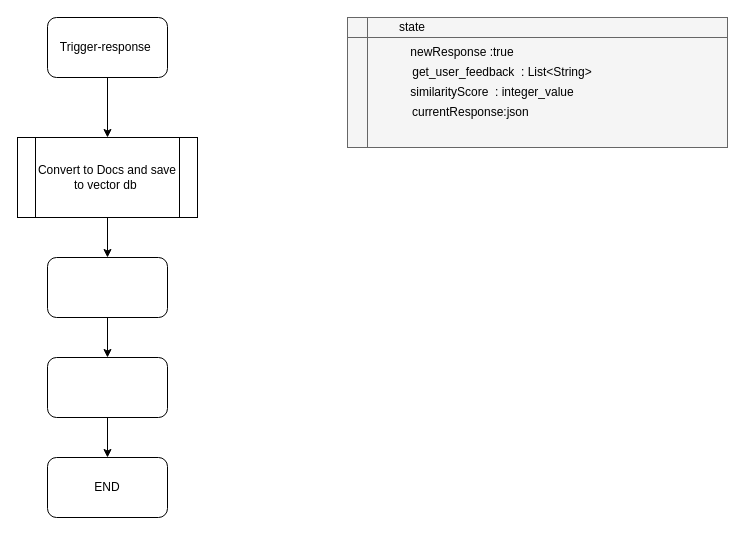
This 745x535 diagram has some shape labels left out. The box of each missing label's shape, as (x1, y1, x2, y2) in pixels:
check similarity step: (46, 256, 168, 318)
Generate_Report: (46, 356, 168, 418)
